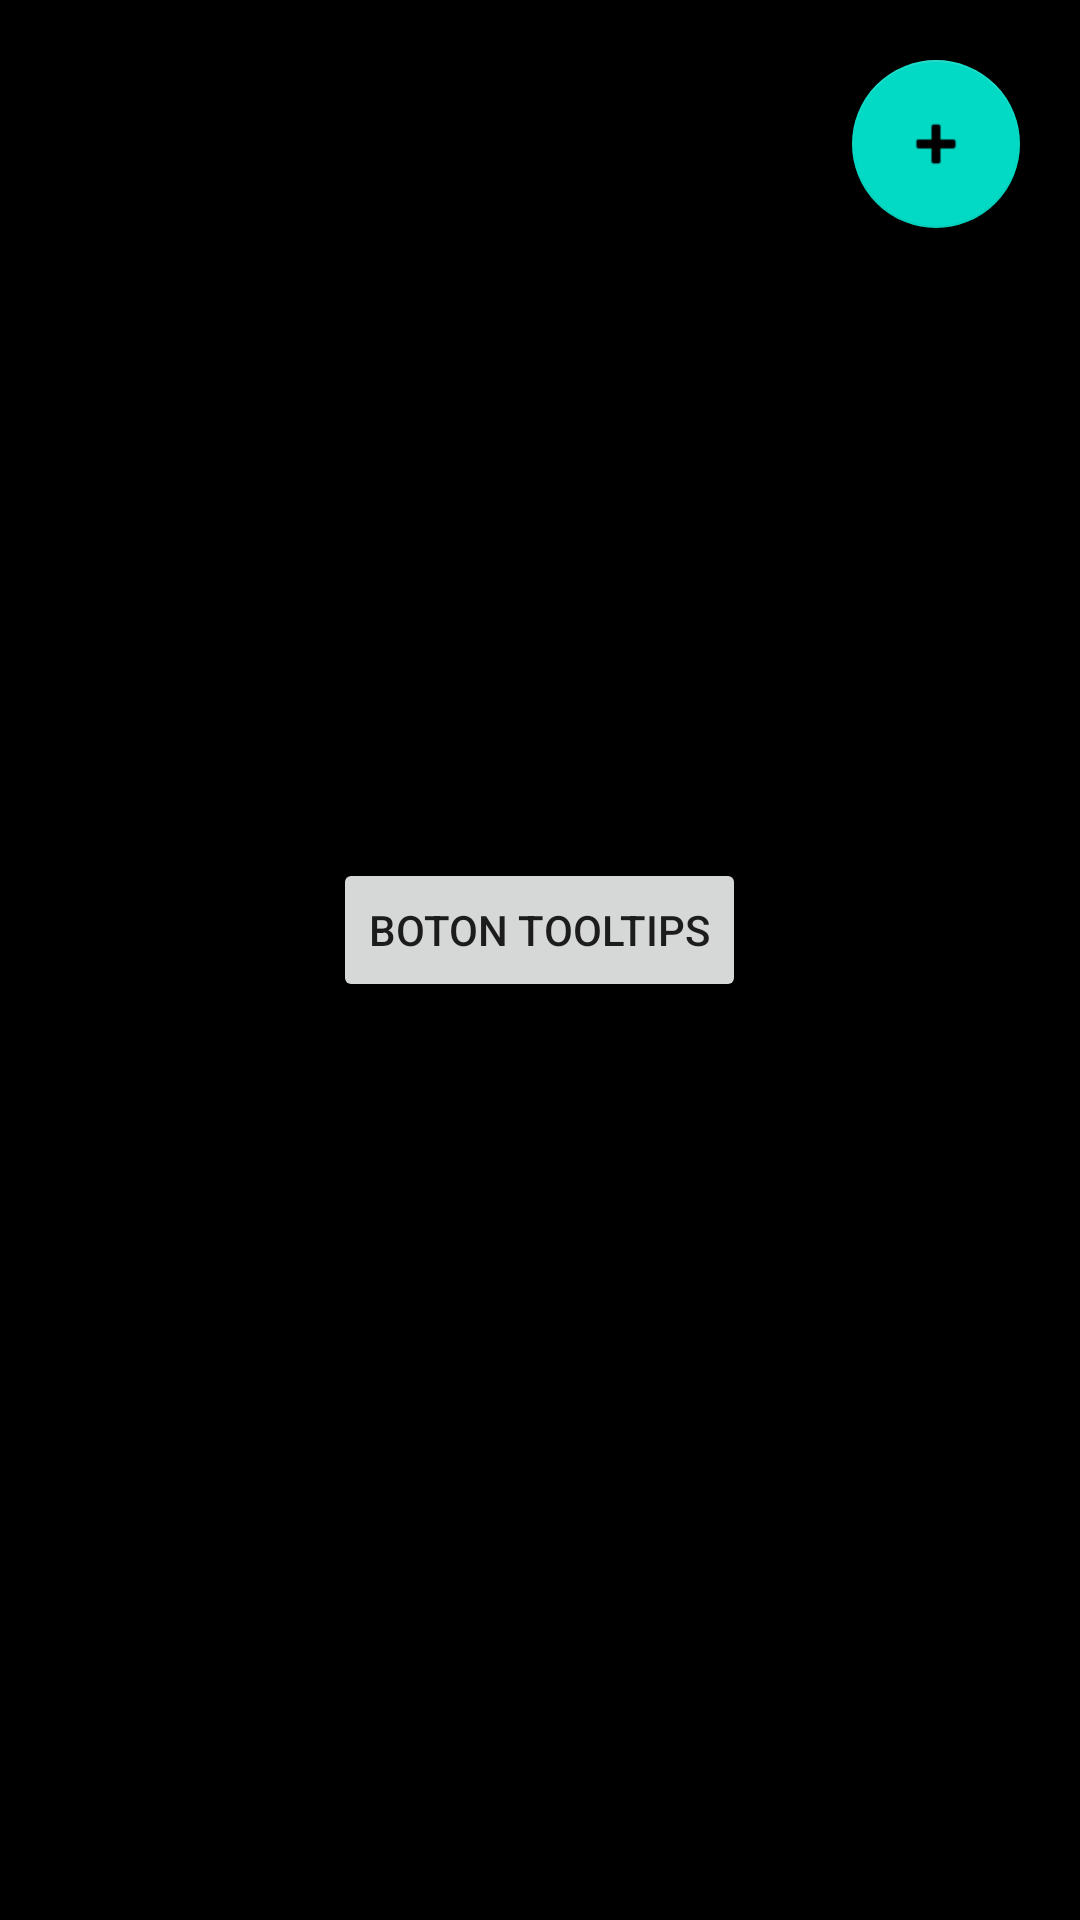

Point at icon controls on the screen. Image size 1080 × 1920, points as point (x, y).
add: point (936, 144)
